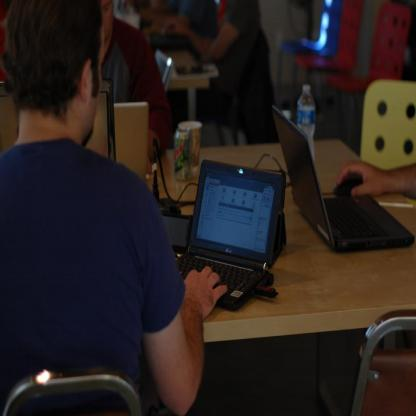board: (272, 105, 415, 254), (172, 158, 281, 310), (298, 83, 315, 166), (174, 124, 194, 182)
